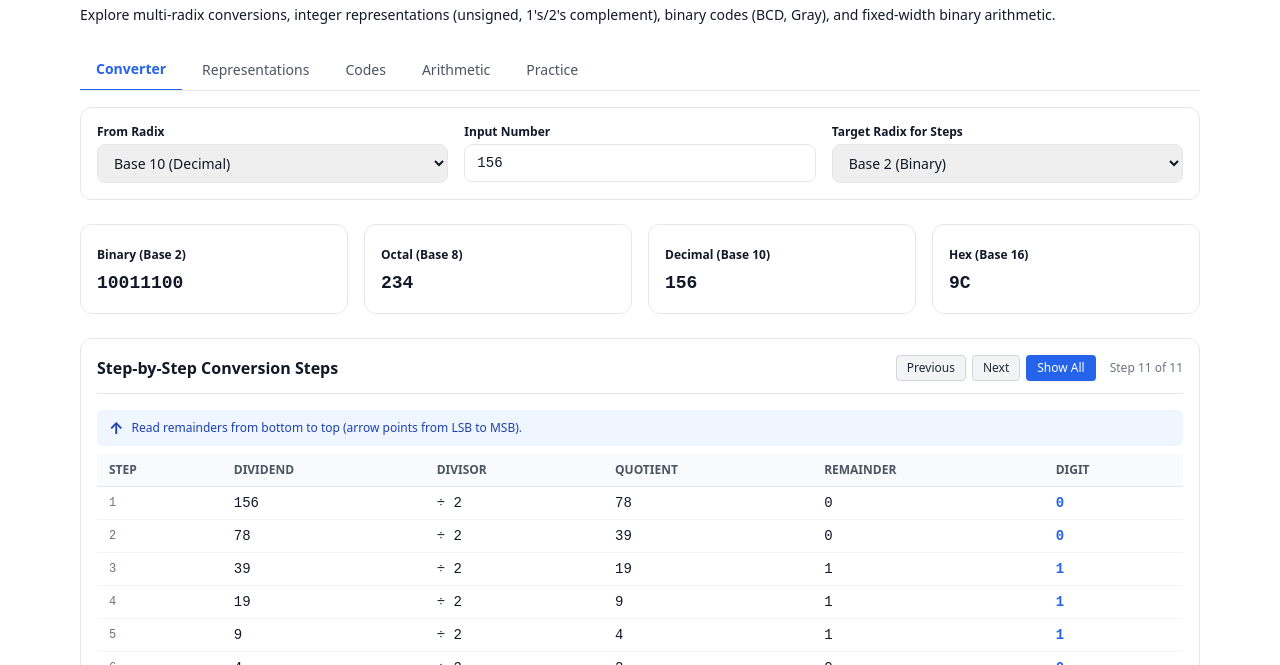
Scenario: NumberSystemsPage › integration: 156 division correctly entered then wrong bit string shows wrong-remainder-order
This screenshot has width=1280, height=665.
Note: Open Practice tab
Click the tab "Practice" at (552, 70), box x1=510 y1=49 x2=594 y2=90
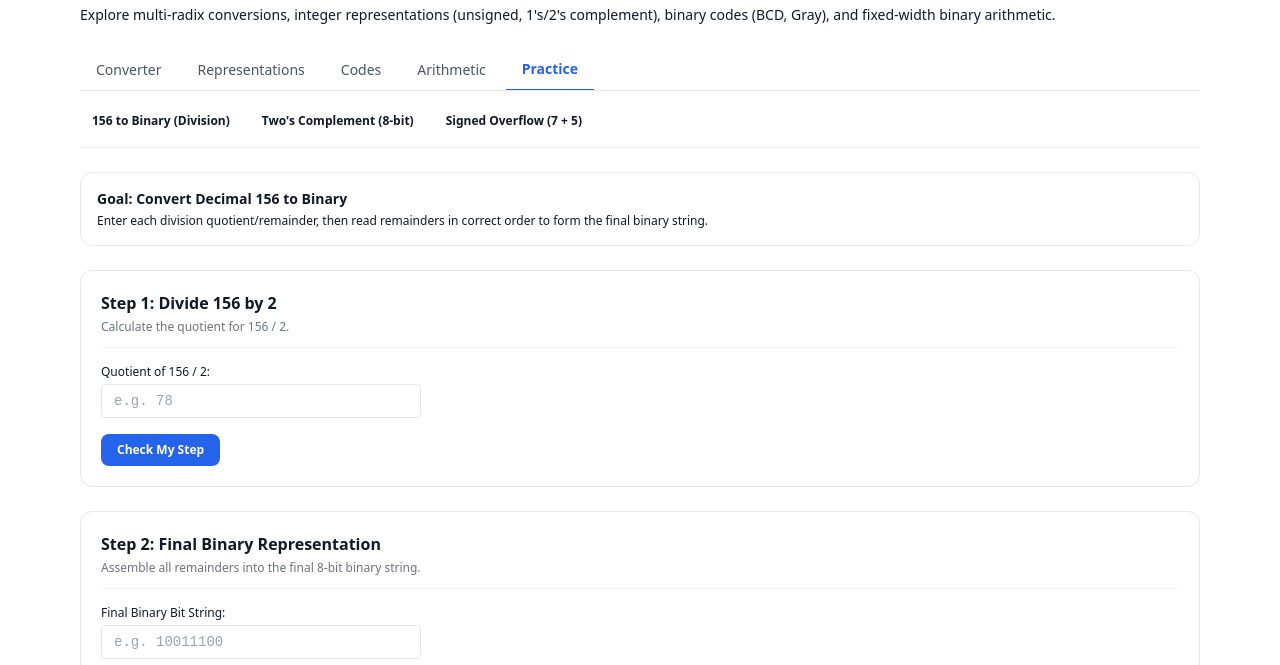
Note: correct quotient
Type "78" into the field labelled "Quotient of 156 / 2:" at (261, 401), box x1=101 y1=384 x2=421 y2=418
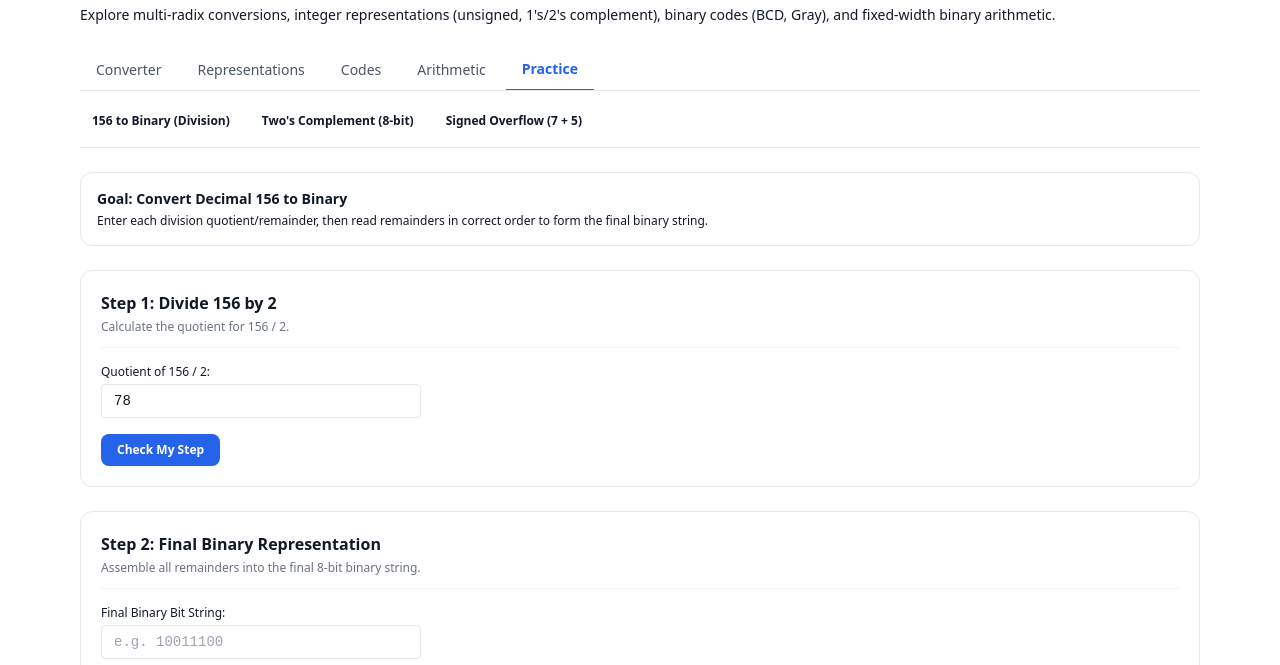
Click the button "Check My Step" at (161, 450), box x1=101 y1=434 x2=220 y2=466
(page scrolled)
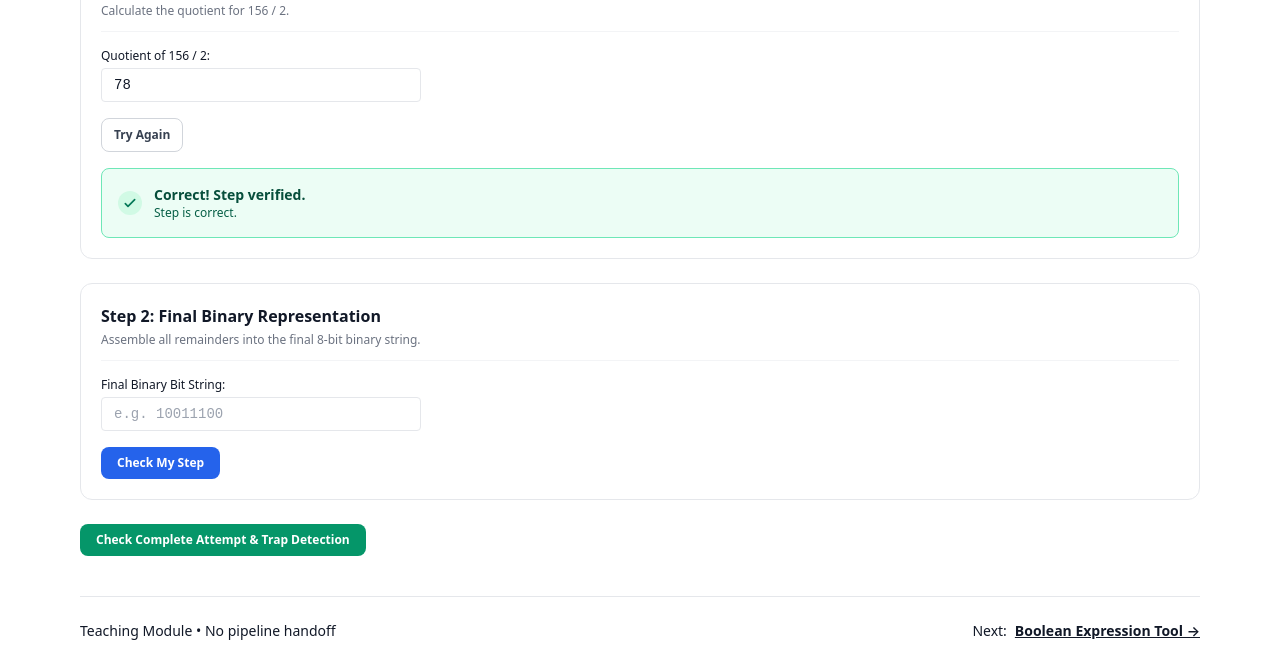
Expected: the text "Correct! Step verified." is shown, x1=154 y1=185 x2=306 y2=205
Note: reversed bit string (00111001)
Type "00111001" into the field labelled "Final Binary Bit String:" at (261, 414), box x1=101 y1=397 x2=421 y2=431
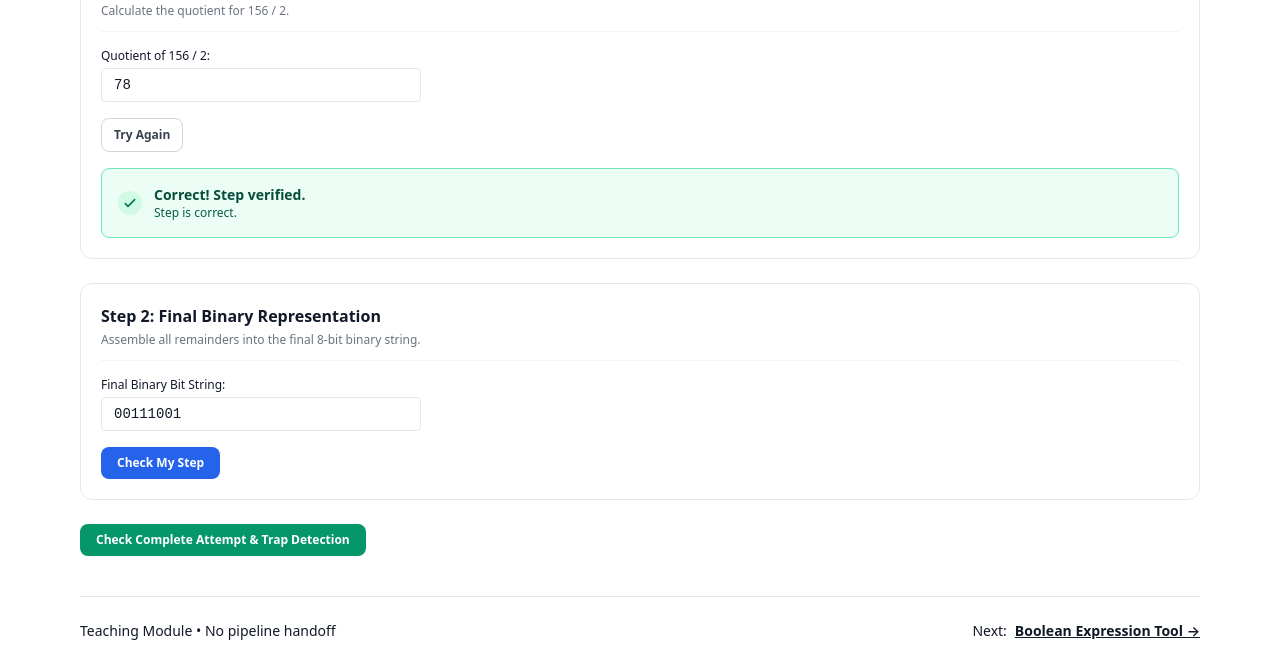
Click the button "Check My Step" at (161, 463), box x1=101 y1=447 x2=220 y2=479
(page scrolled)
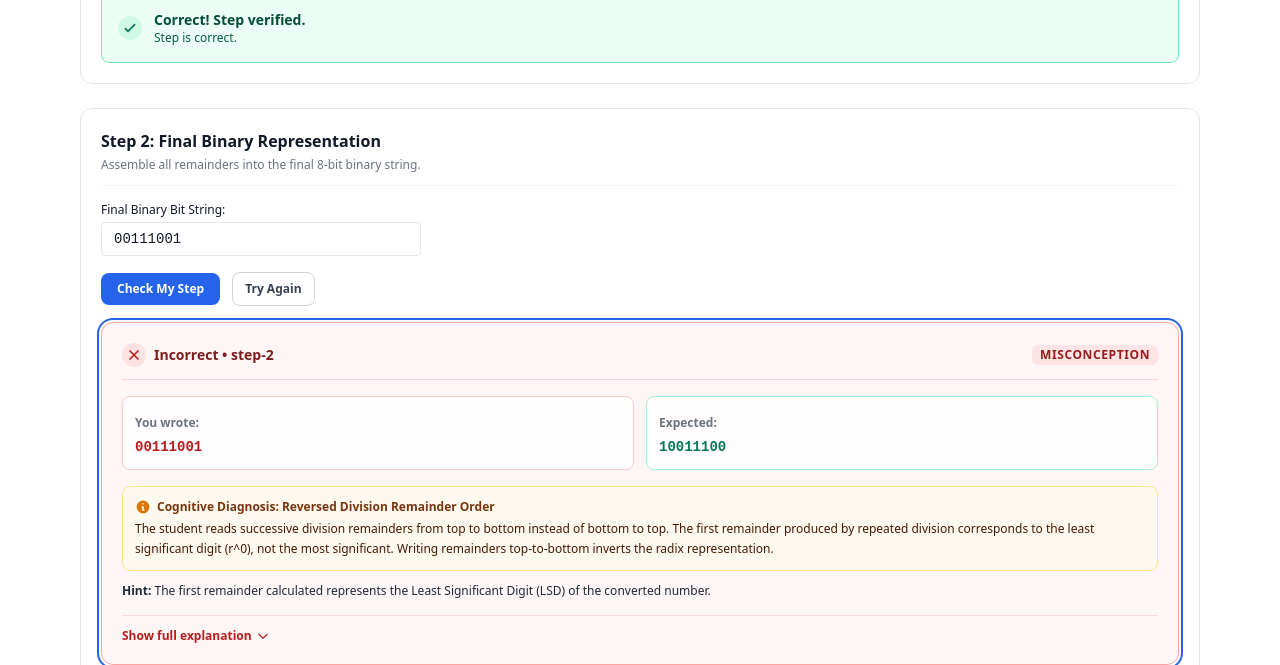
Expected: the message that starts with "Incorrect •" is shown, x1=101 y1=322 x2=1179 y2=664
Expected: the text "Cognitive Diagnosis: Reversed Division Remainder Order" is shown, x1=135 y1=498 x2=495 y2=515
